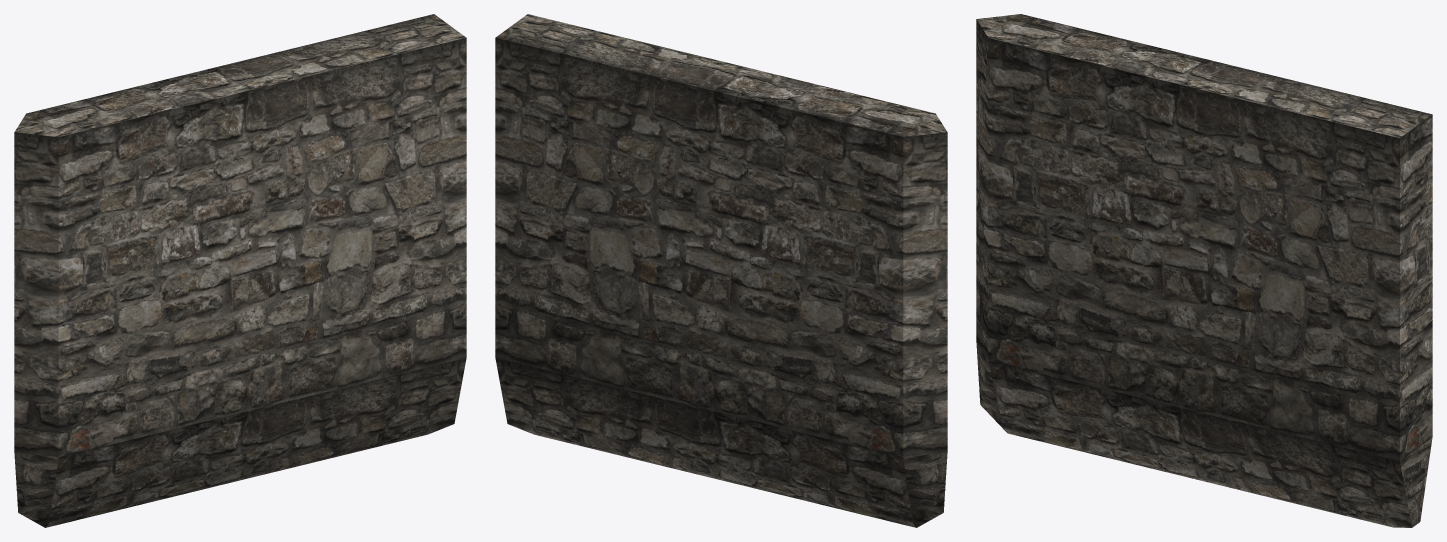
File: House_Stone_Wall_Plain.dae
The picture shows the model from 3 angles, left to right: view 1: azimuth 30°, elevation 25°; view 2: azimuth 150°, elevation 25°; view 3: azimuth 330°, elevation 25°; orthographic projection.
Visible parts, largest first — view 1: StoneWallPlain; view 2: StoneWallPlain; view 3: StoneWallPlain.
Boxes of the visible parts, bbox=[...] form: StoneWallPlain: bbox=[14, 14, 466, 527]; StoneWallPlain: bbox=[495, 14, 947, 527]; StoneWallPlain: bbox=[976, 14, 1432, 527].
Bounding box in the file's own units: 4.28 × 3.8 × 0.55.
Materials: 1 (1 with a texture image).
